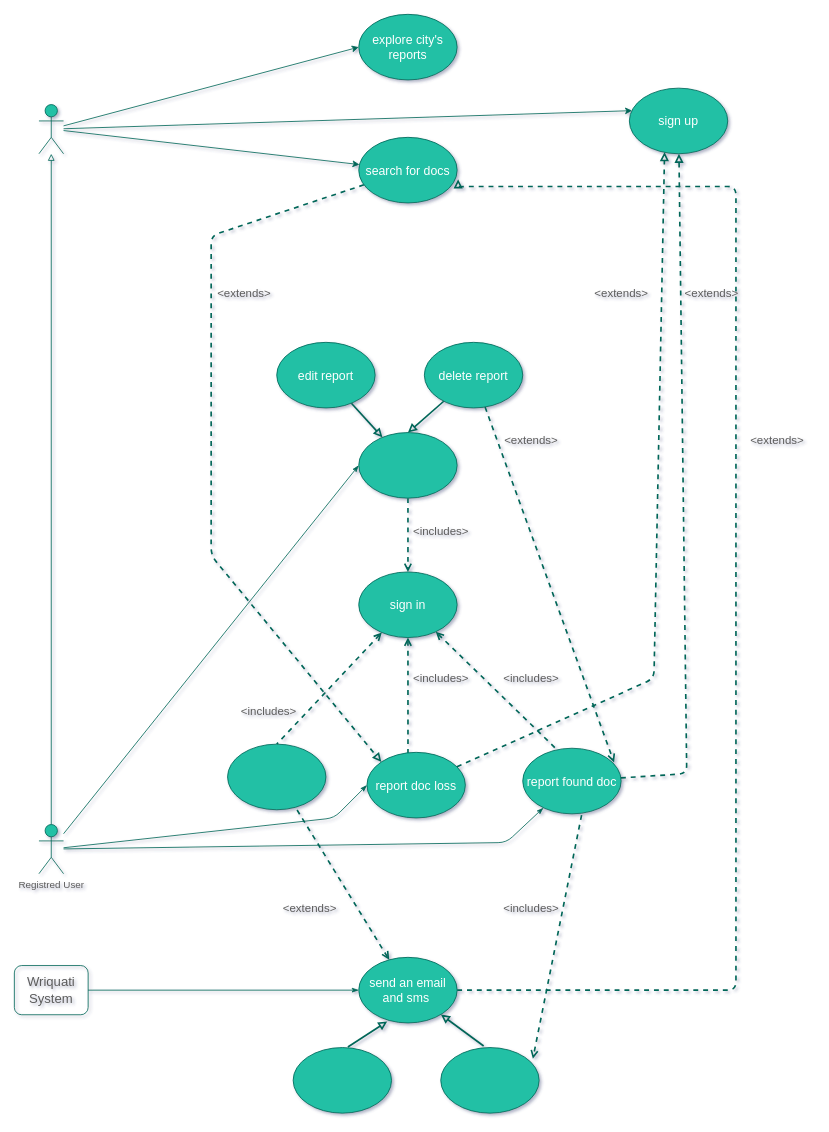
Some shapes in this 829 by 1132 pixel diagram are drawn without their labels. Each missing label, with the box of its shape:
manage report: (358, 432, 457, 498)
start conversations: (227, 743, 326, 810)
to finder: (292, 1047, 392, 1113)
to owner: (440, 1047, 539, 1113)
Web surfer: (38, 104, 64, 154)
